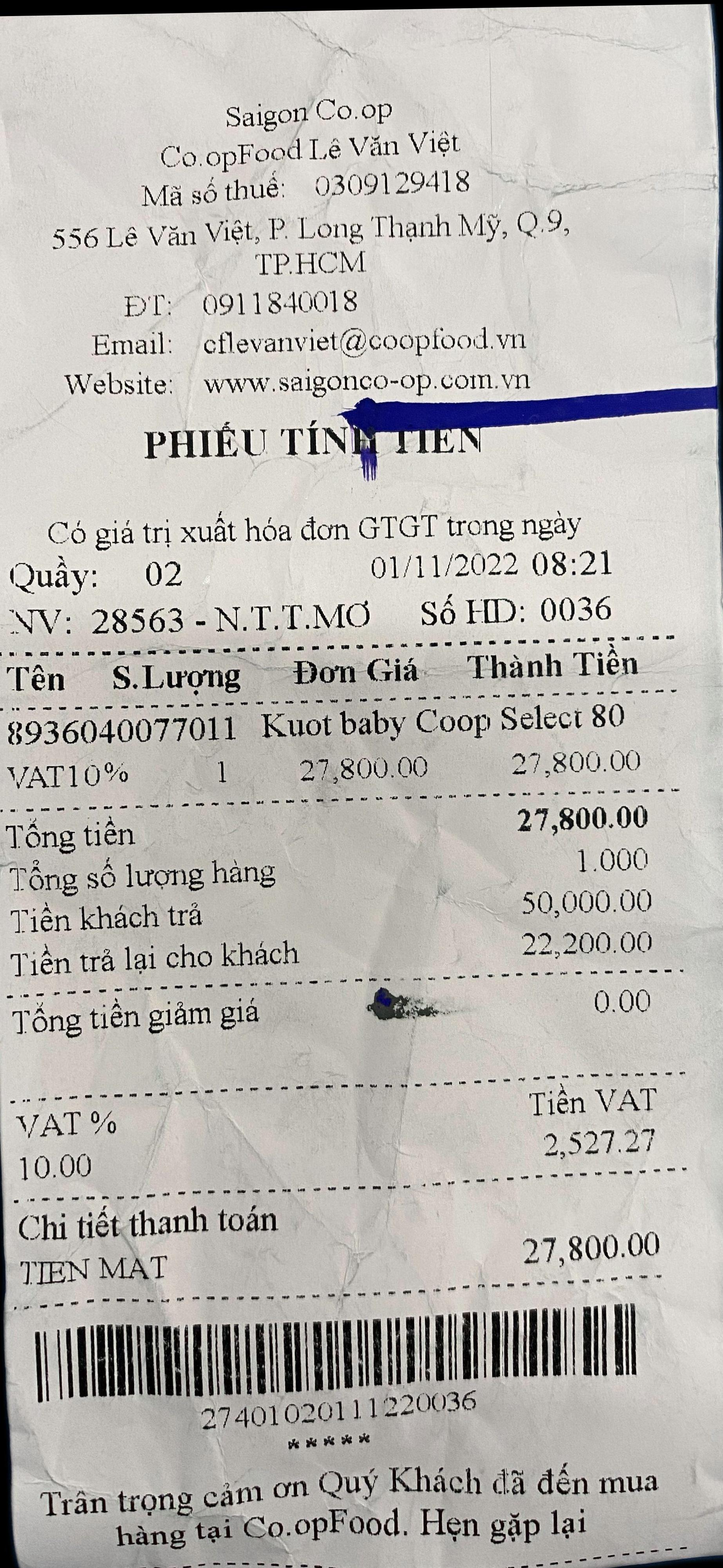Date: (319, 549, 525, 587)
Store_Name: (165, 84, 447, 128)
Total_Amount: (0, 797, 680, 854)
